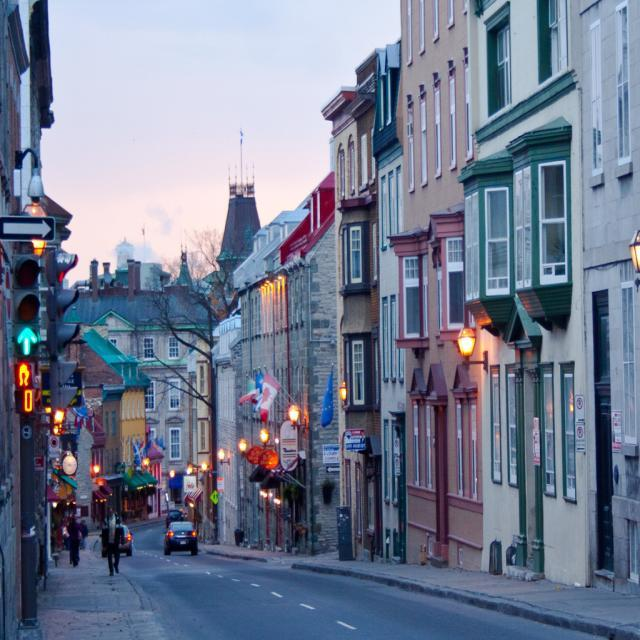off traffic light: (50, 363, 82, 410)
traffic light: (46, 249, 79, 359), (11, 252, 41, 364), (15, 366, 35, 414)
